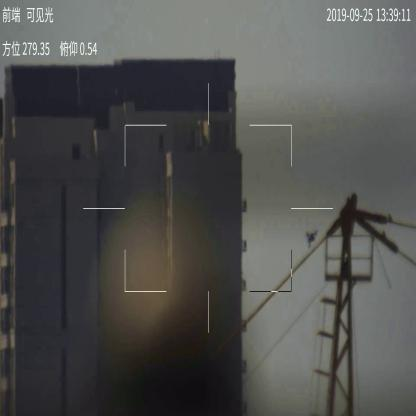uav: (304, 228, 319, 250)
